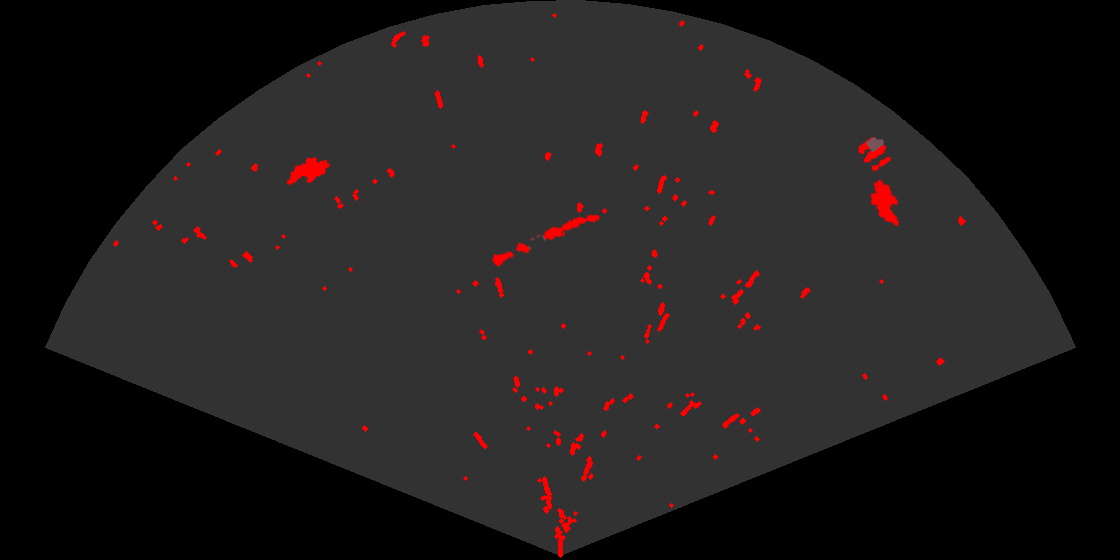AUV: (869, 178, 901, 228), (285, 156, 331, 187)
ball: (857, 135, 893, 173)
chain: (490, 213, 602, 268)
